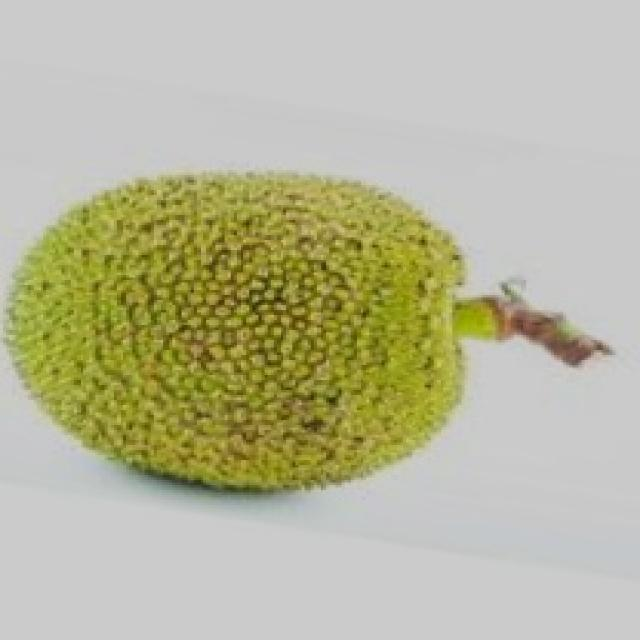Fruit: (117, 155, 498, 513)
